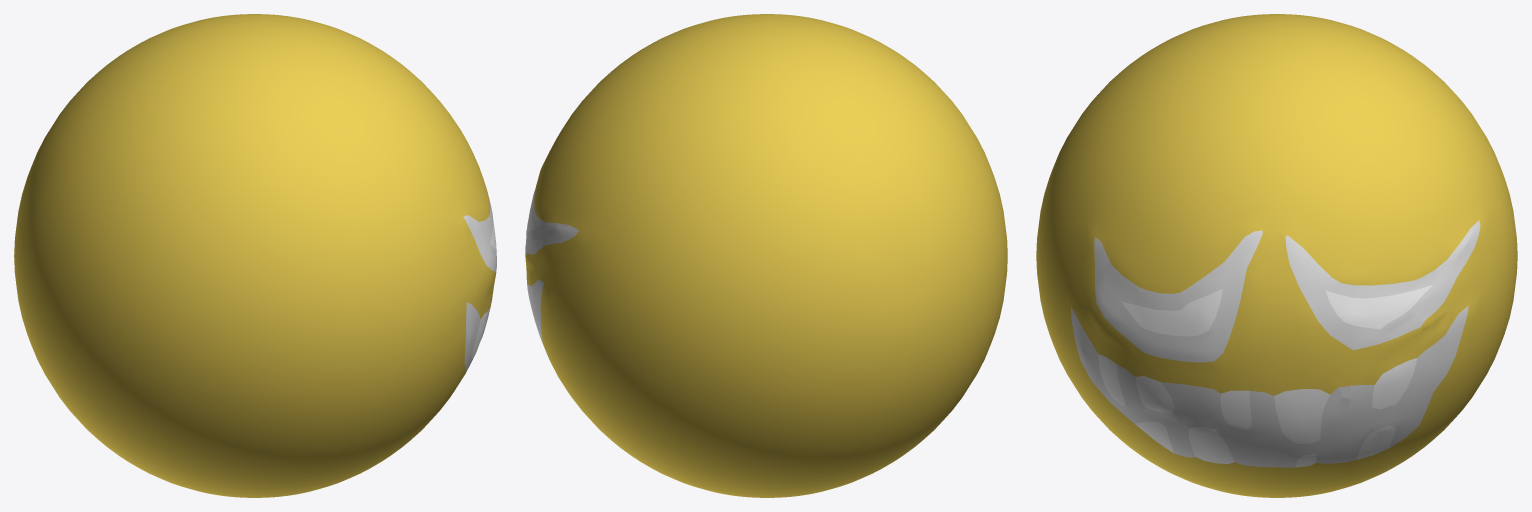
File: head1.fbx
3 views of the same model, side by side, from view 1: azimuth 30°, elevation 25°; view 2: azimuth 150°, elevation 25°; view 3: azimuth 270°, elevation 25° (orthographic).
Visible parts, largest first — view 1: Sphere; view 2: Sphere; view 3: Sphere.
Boxes of the visible parts, <box> form: Sphere: <box>14,14,496,497</box>; Sphere: <box>525,14,1007,497</box>; Sphere: <box>1036,14,1517,497</box>.
Size of the model in its own units: 198 by 200 by 198.
